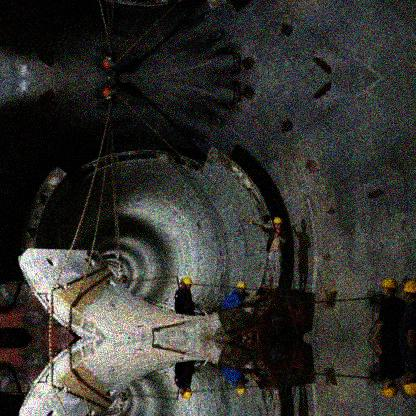helmet: (368, 280, 406, 339), (403, 369, 416, 397), (403, 281, 416, 305), (380, 280, 397, 298), (384, 379, 399, 399), (236, 282, 246, 294), (237, 383, 247, 395), (273, 216, 281, 230), (181, 388, 192, 398), (182, 278, 191, 288)
